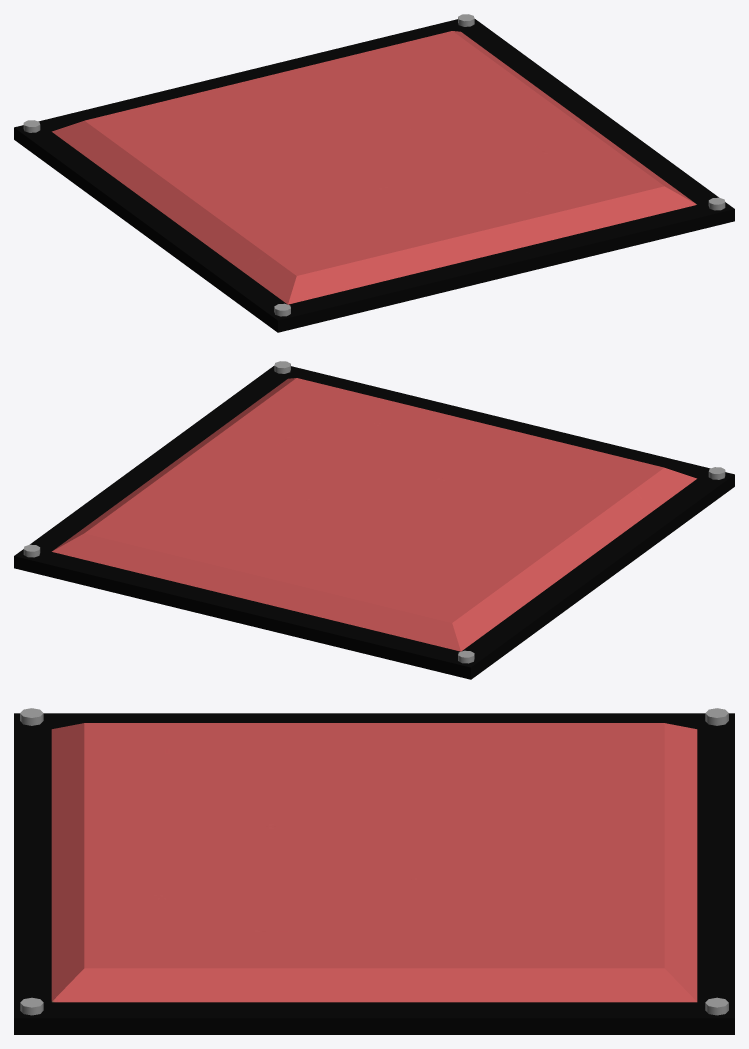
File: Silhouette.fbx
The picture shows the model from 3 angles, top to bottom: view 1: azimuth 30°, elevation 25°; view 2: azimuth 150°, elevation 25°; view 3: azimuth 270°, elevation 25°; orthographic projection. The views are drawn at different scales.
Visible parts, largest first — view 1: Box001; view 2: Box001; view 3: Box001.
Part boxes in pixels (x1,y1,x2,y2): Box001: [14, 14, 734, 332]; Box001: [14, 361, 734, 679]; Box001: [14, 708, 734, 1034].
Size of the model in its own units: 20 by 1.13 by 20.
Materials: 1 (1 with a texture image).
